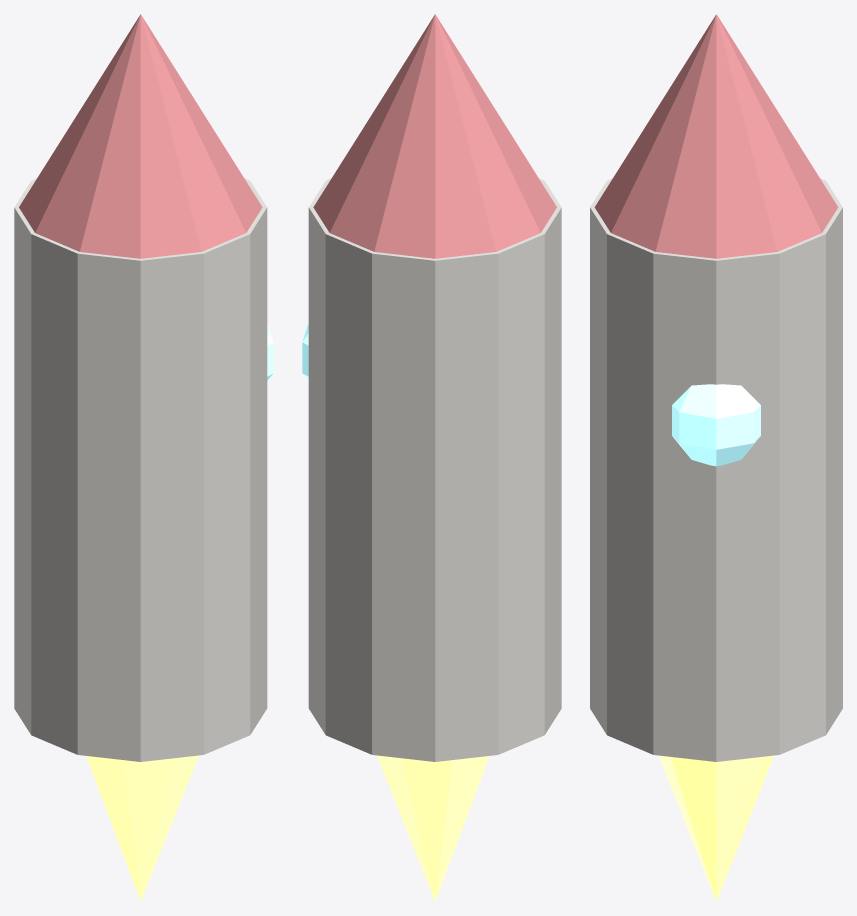
Rendered from rocket.glb.
3 views of the same model, side by side, from view 1: azimuth 30°, elevation 25°; view 2: azimuth 150°, elevation 25°; view 3: azimuth 270°, elevation 25° (orthographic).
Parts seen in each view (by area): view 1: body, nose, flame; view 2: body, nose, flame; view 3: body, nose, flame, window.
Part boxes in pixels (x1,y1,x2,y2): body: (14, 178, 267, 761); nose: (19, 14, 262, 258); flame: (86, 755, 198, 901); body: (308, 178, 561, 761); nose: (313, 14, 556, 258); flame: (377, 755, 489, 901); body: (590, 178, 842, 761); nose: (594, 14, 838, 258); flame: (659, 755, 773, 901); window: (672, 384, 760, 466).
Bounding box in the file's own units: 0.3466 × 1.24 × 0.32.
